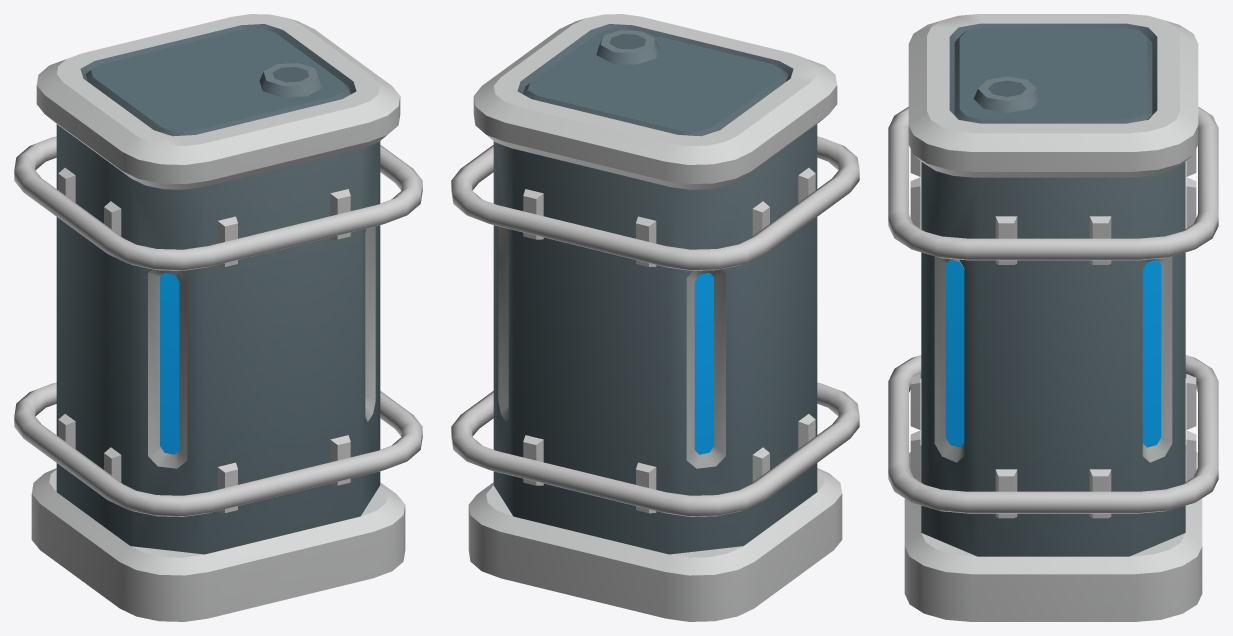
The model's file is Barrel_006.glb.
3 renders of one model, left to right at view 1: azimuth 30°, elevation 25°; view 2: azimuth 150°, elevation 25°; view 3: azimuth 270°, elevation 25°, orthographic. The views are drawn at different scales.
Visible parts, largest first — view 1: Barrel_006; view 2: Barrel_006; view 3: Barrel_006.
Boxes of the visible parts, <box> form: Barrel_006: <box>14,14,422,621</box>; Barrel_006: <box>451,14,859,621</box>; Barrel_006: <box>888,14,1218,621</box>.
Size of the model in its own units: 0.6401 by 0.95 by 0.5821.
Materials: 2 (2 with a texture image).
